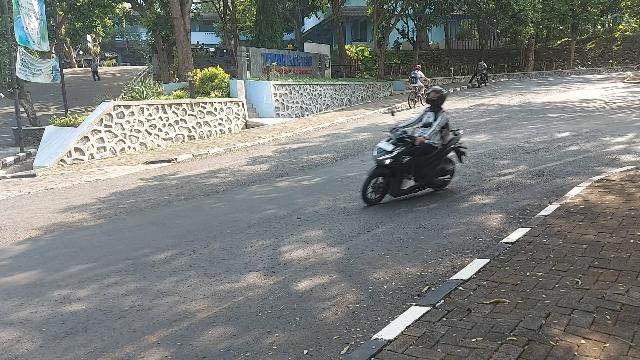helm: (427, 88, 448, 109)
motor: (363, 112, 468, 207)
